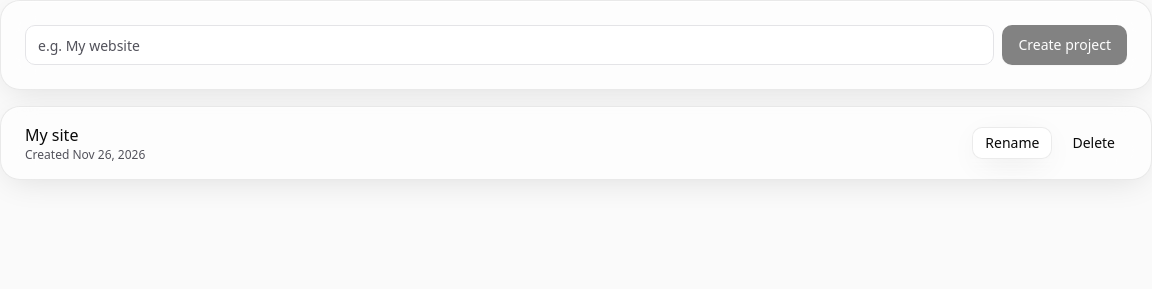
create › on 402 shows the server's message and a link to billing, and doesn't refresh
In the field named "Project name": (510, 45) [25, 25, 994, 65], type "Second"
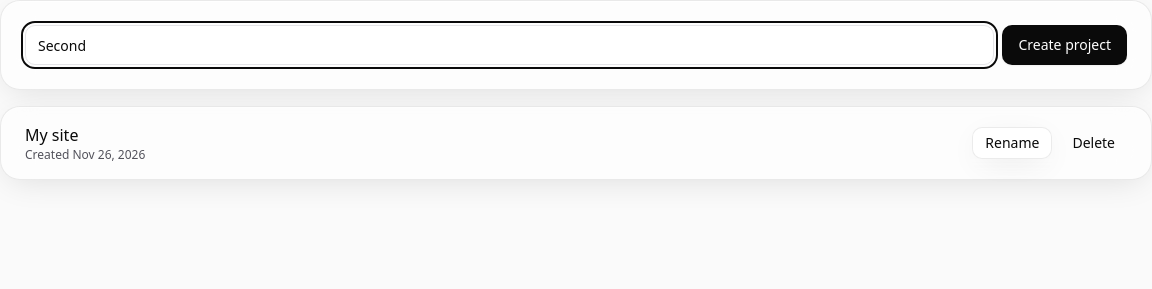
Click the button "Create project": (1065, 45) [1002, 25, 1127, 65]
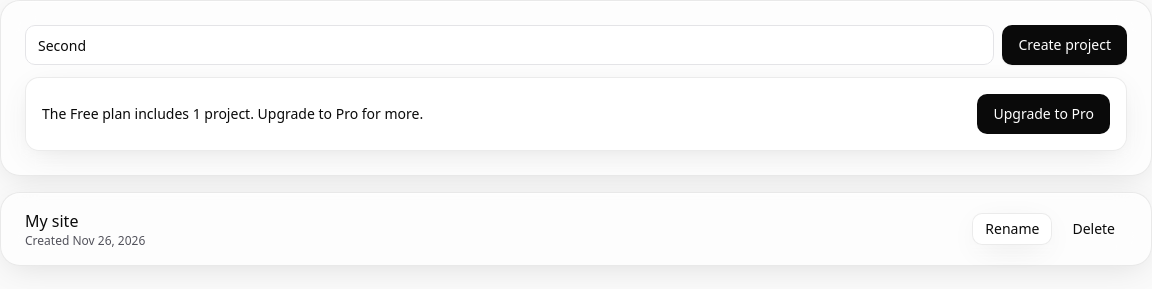
Result: the message shows "The Free plan includes 1 project. Upgrade to Pro for more." at [42, 104, 423, 123]
